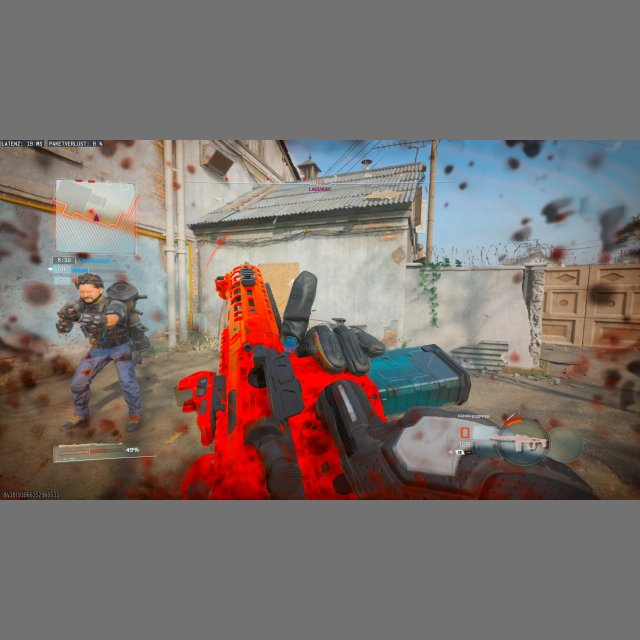head: (75, 273, 104, 303), (115, 271, 128, 286)
player: (55, 272, 145, 436)
